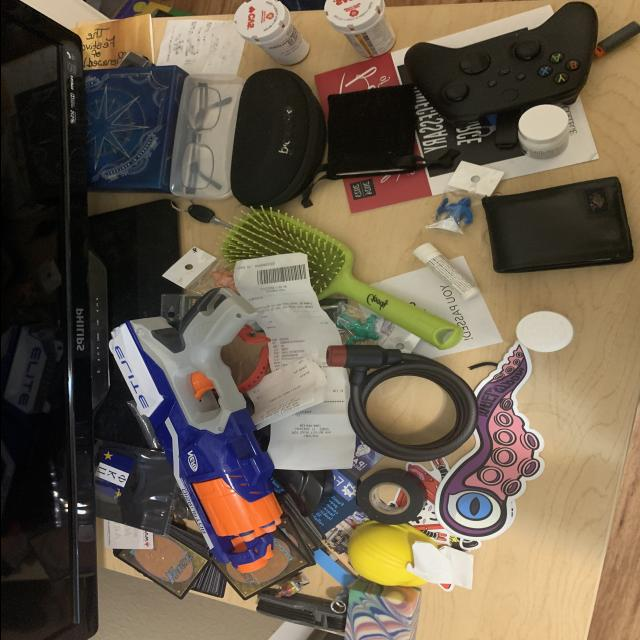nerf-maverik: (80, 284, 320, 582)
